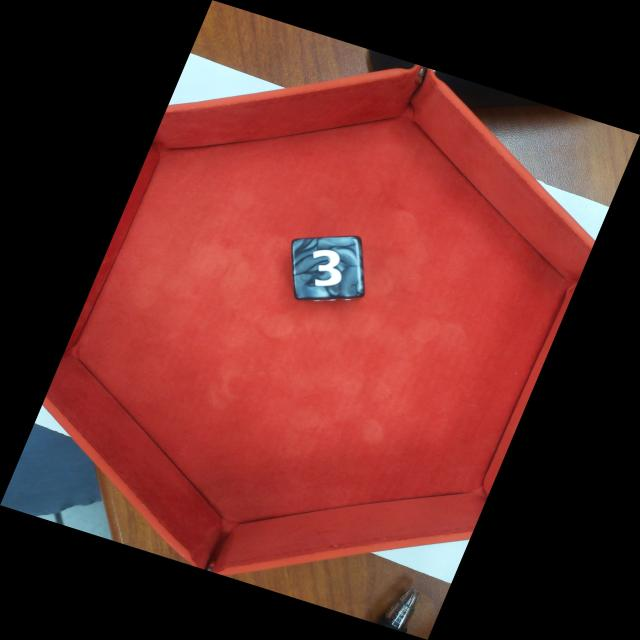dice: (291, 235, 365, 301)
